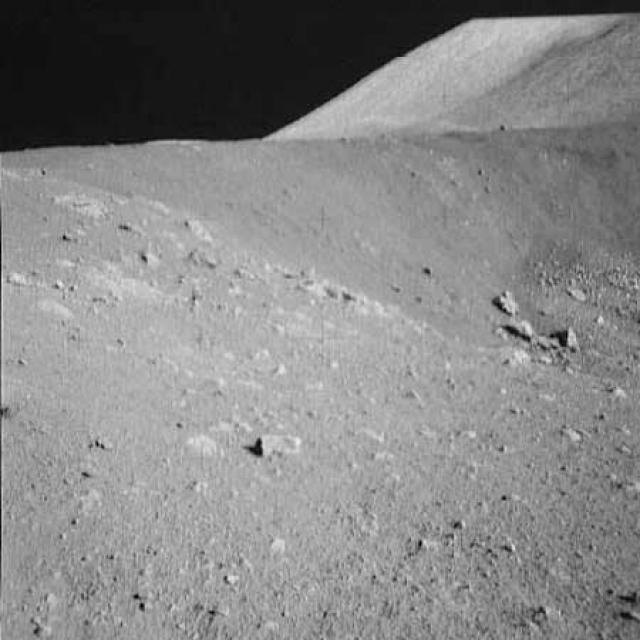rock: (255, 430, 306, 460), (489, 288, 522, 317), (180, 215, 213, 242), (189, 246, 219, 271), (561, 321, 584, 349), (507, 319, 533, 341)
